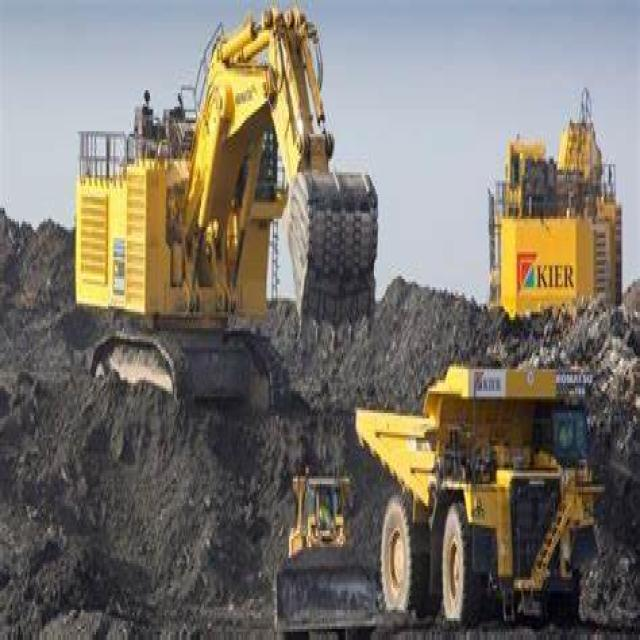buldozerpayloadergrader: (252, 440, 393, 626)
dump_truck: (354, 304, 618, 637)
excavator: (56, 8, 398, 432), (472, 115, 632, 372)
